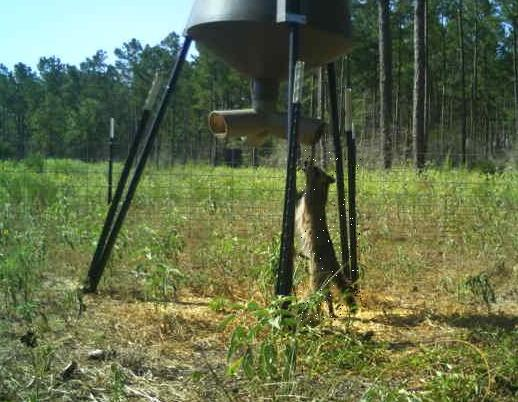Raccoon: (298, 147, 360, 324)
